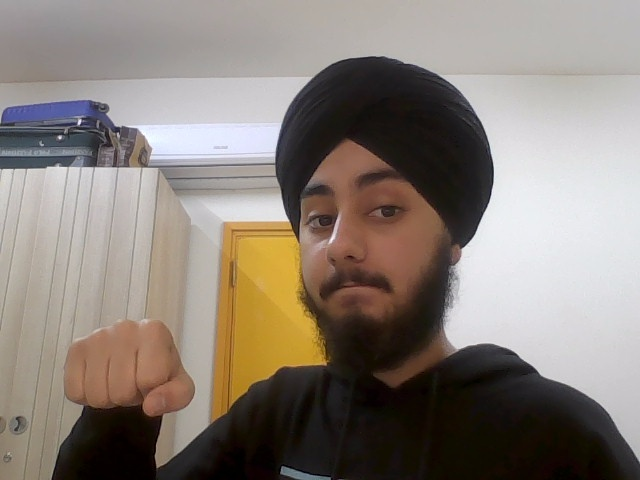Yes: (58, 311, 211, 428)
